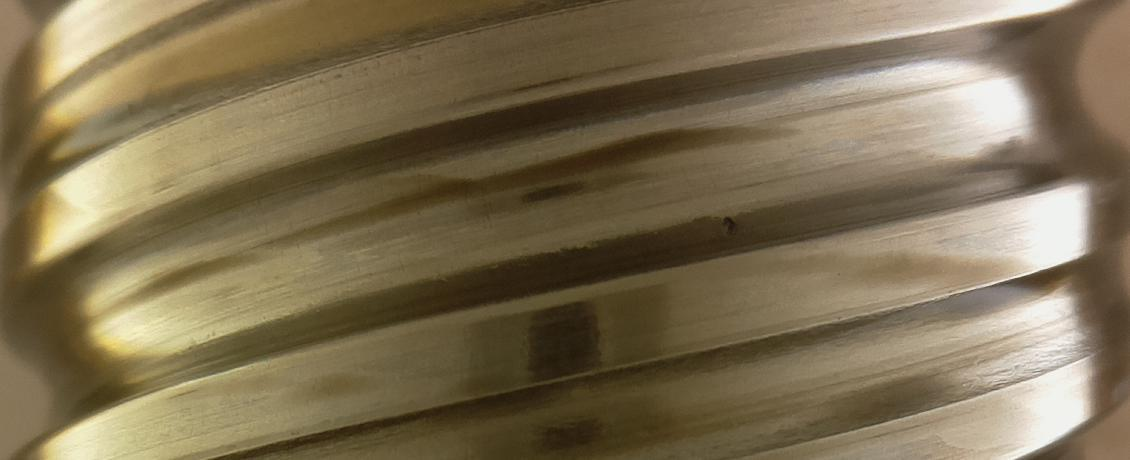pitting: (721, 215, 738, 235)
